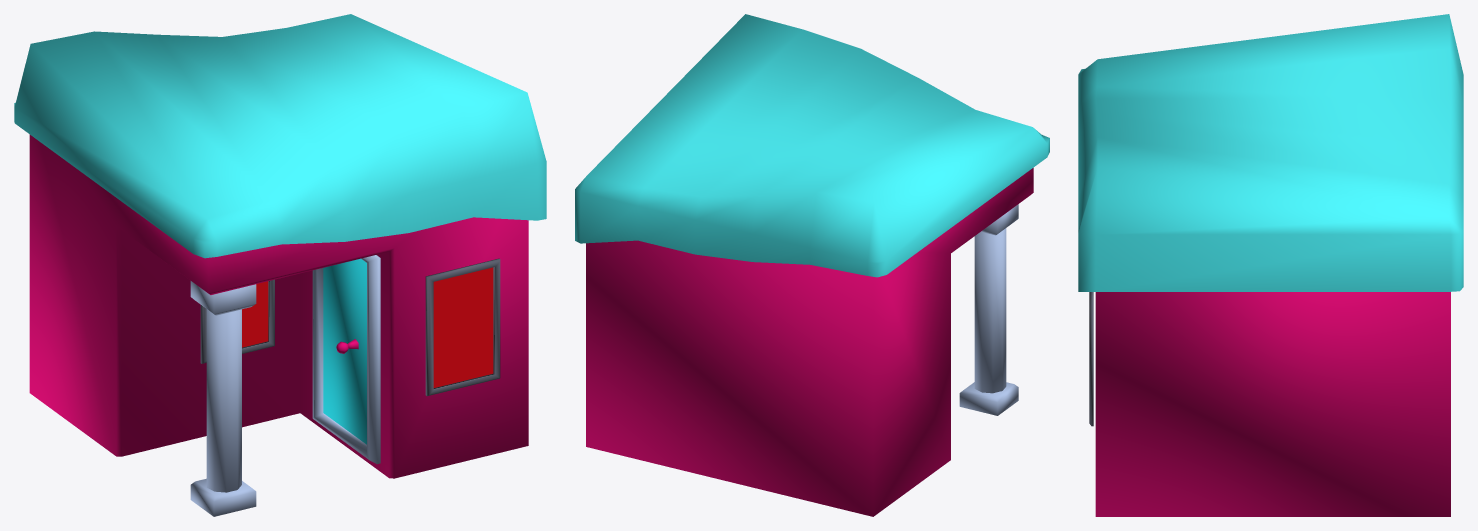
File: House Square.fbx
The picture shows the model from 3 angles, left to right: view 1: azimuth 30°, elevation 25°; view 2: azimuth 150°, elevation 25°; view 3: azimuth 270°, elevation 25°; orthographic projection. The views are drawn at different scales.
Parts seen in each view (by area): view 1: Building Square proto 1 roof, Building Square proto 1, Building Square proto 1 details; view 2: Building Square proto 1, Building Square proto 1 roof, Building Square proto 1 details; view 3: Building Square proto 1 roof, Building Square proto 1, Building Square proto 1 details.
Part boxes in pixels (x1,y1,x2,y2): Building Square proto 1 roof: (14,14,546,258); Building Square proto 1: (29,134,528,478); Building Square proto 1 details: (190,255,500,516); Building Square proto 1: (586,168,1033,516); Building Square proto 1 roof: (575,14,1049,277); Building Square proto 1 details: (959,204,1018,415); Building Square proto 1 roof: (1078,14,1463,291); Building Square proto 1: (1095,292,1450,516); Building Square proto 1 details: (1089,292,1093,426).
Bounding box in the file's own units: 947 × 926 × 923.
